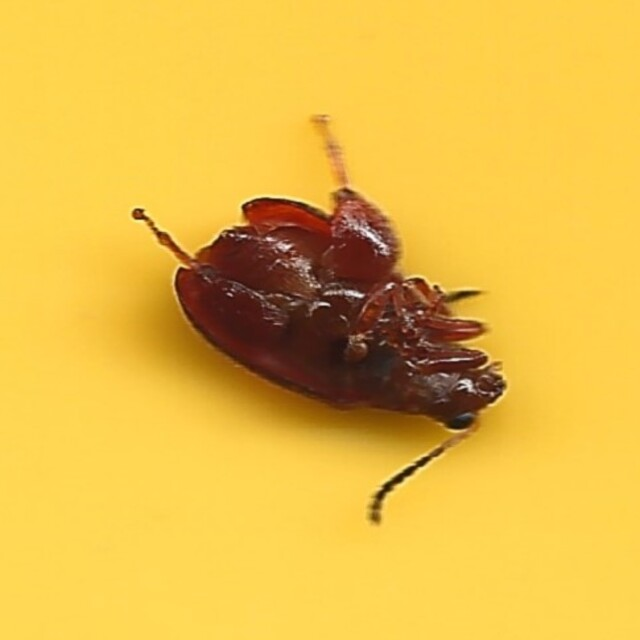Coleoptera: (132, 111, 508, 529)
